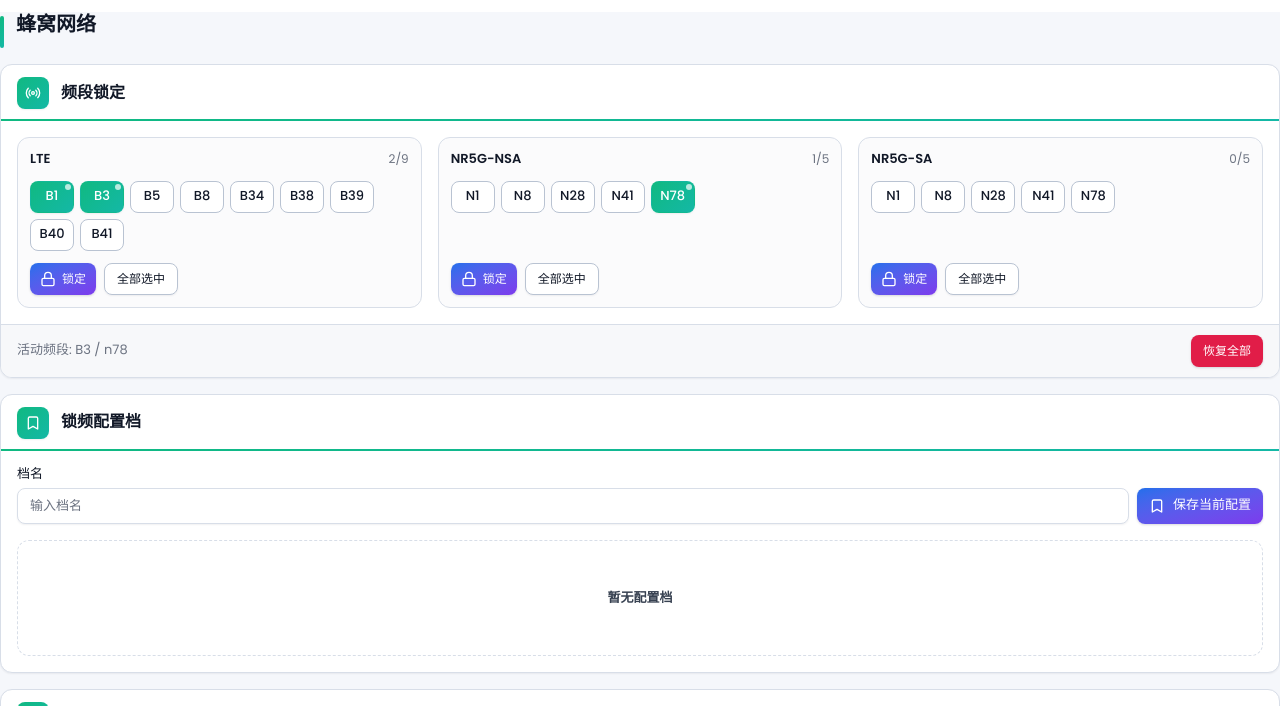
Test: NetworkPage 锁频配置档 › 保存当前配置:写入旧格式 localStorage 并 toast
Check: the checkbox labelled "B1" is enabled, box [30, 181, 74, 213]
In the field labelled "档名": coordinates (573, 506) [17, 488, 1129, 524], type "夜间档"
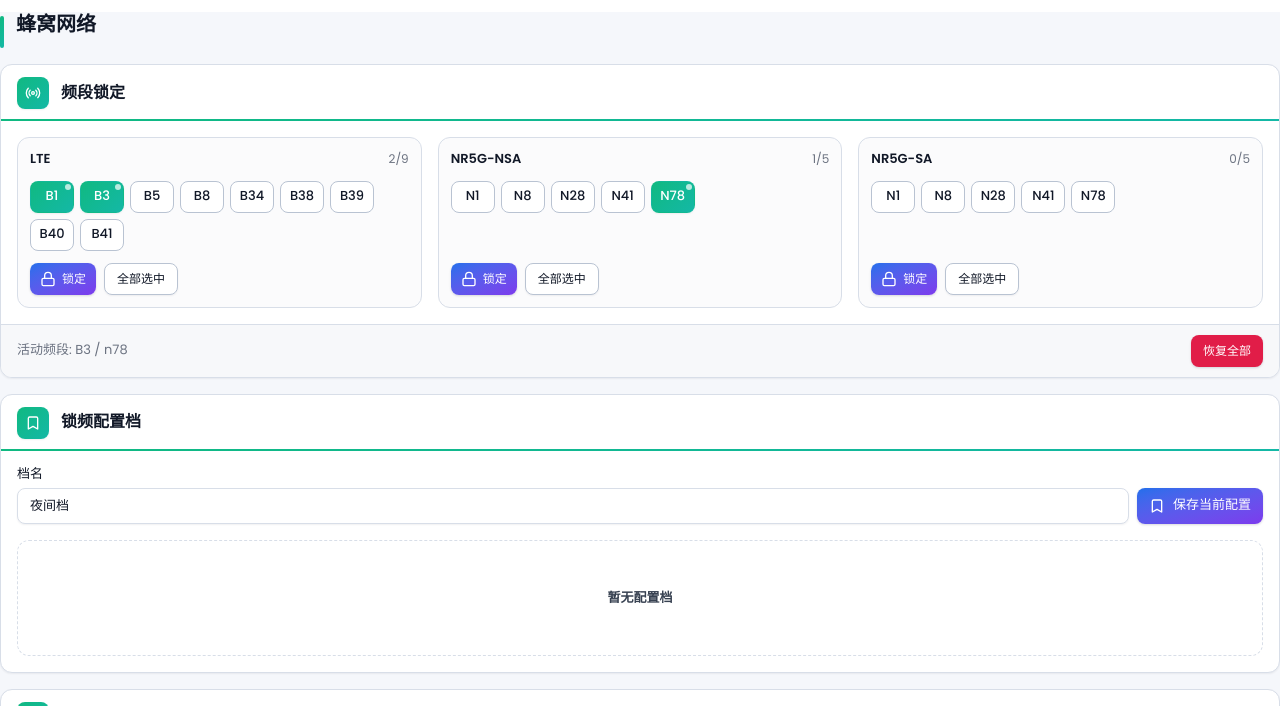
Click the button "保存当前配置": coordinates (1200, 506) [1137, 488, 1263, 524]
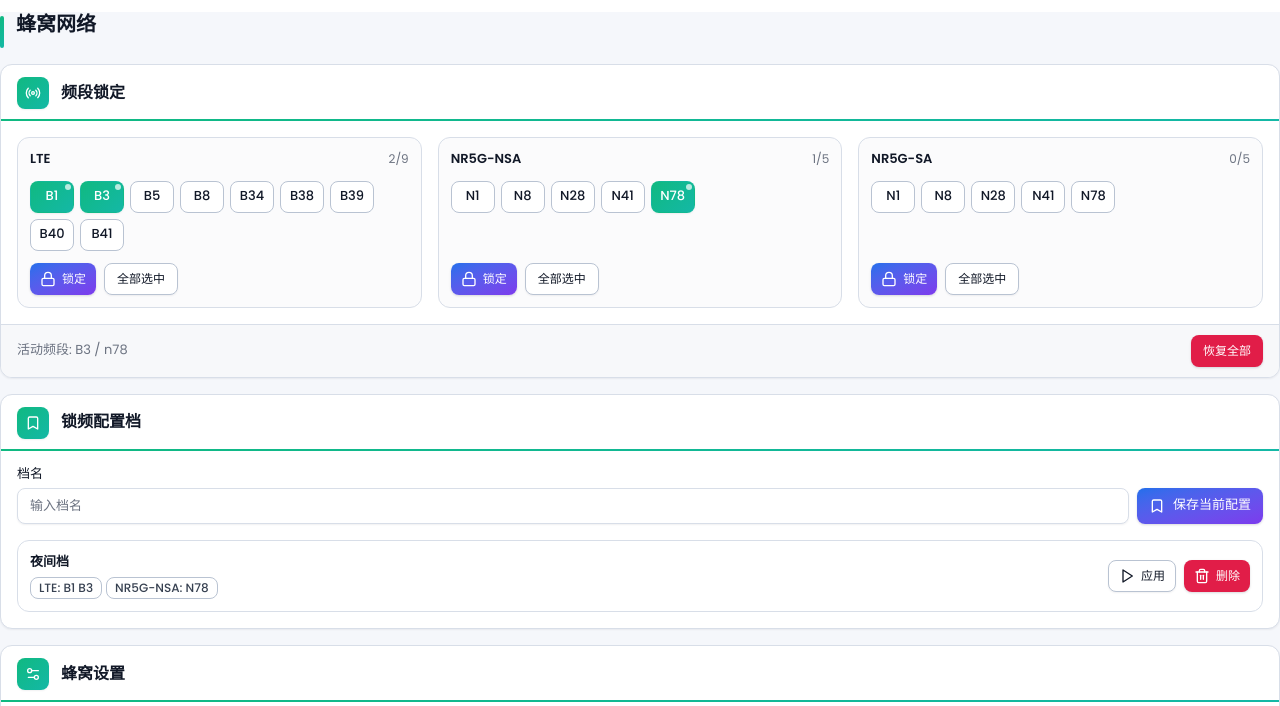
Check: the text "夜间档" is shown, box [30, 552, 69, 571]
